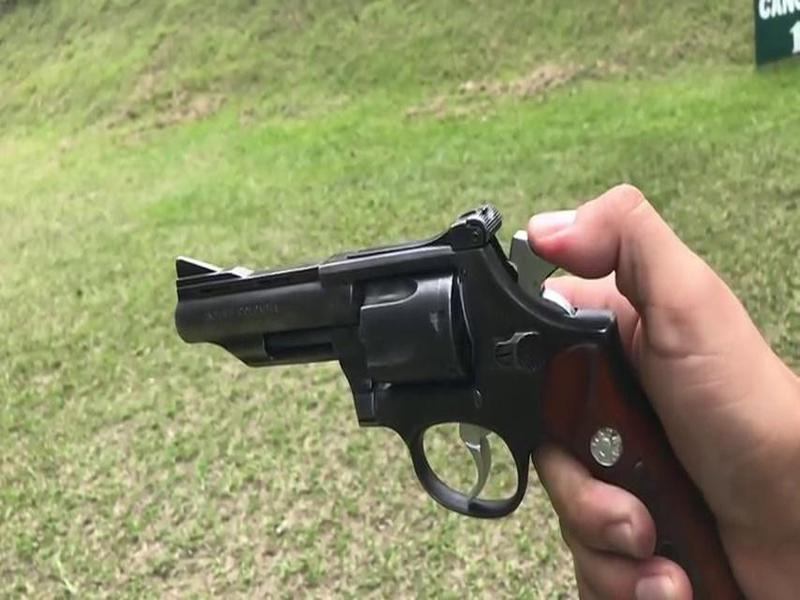Revolver: (172, 210, 699, 584)
